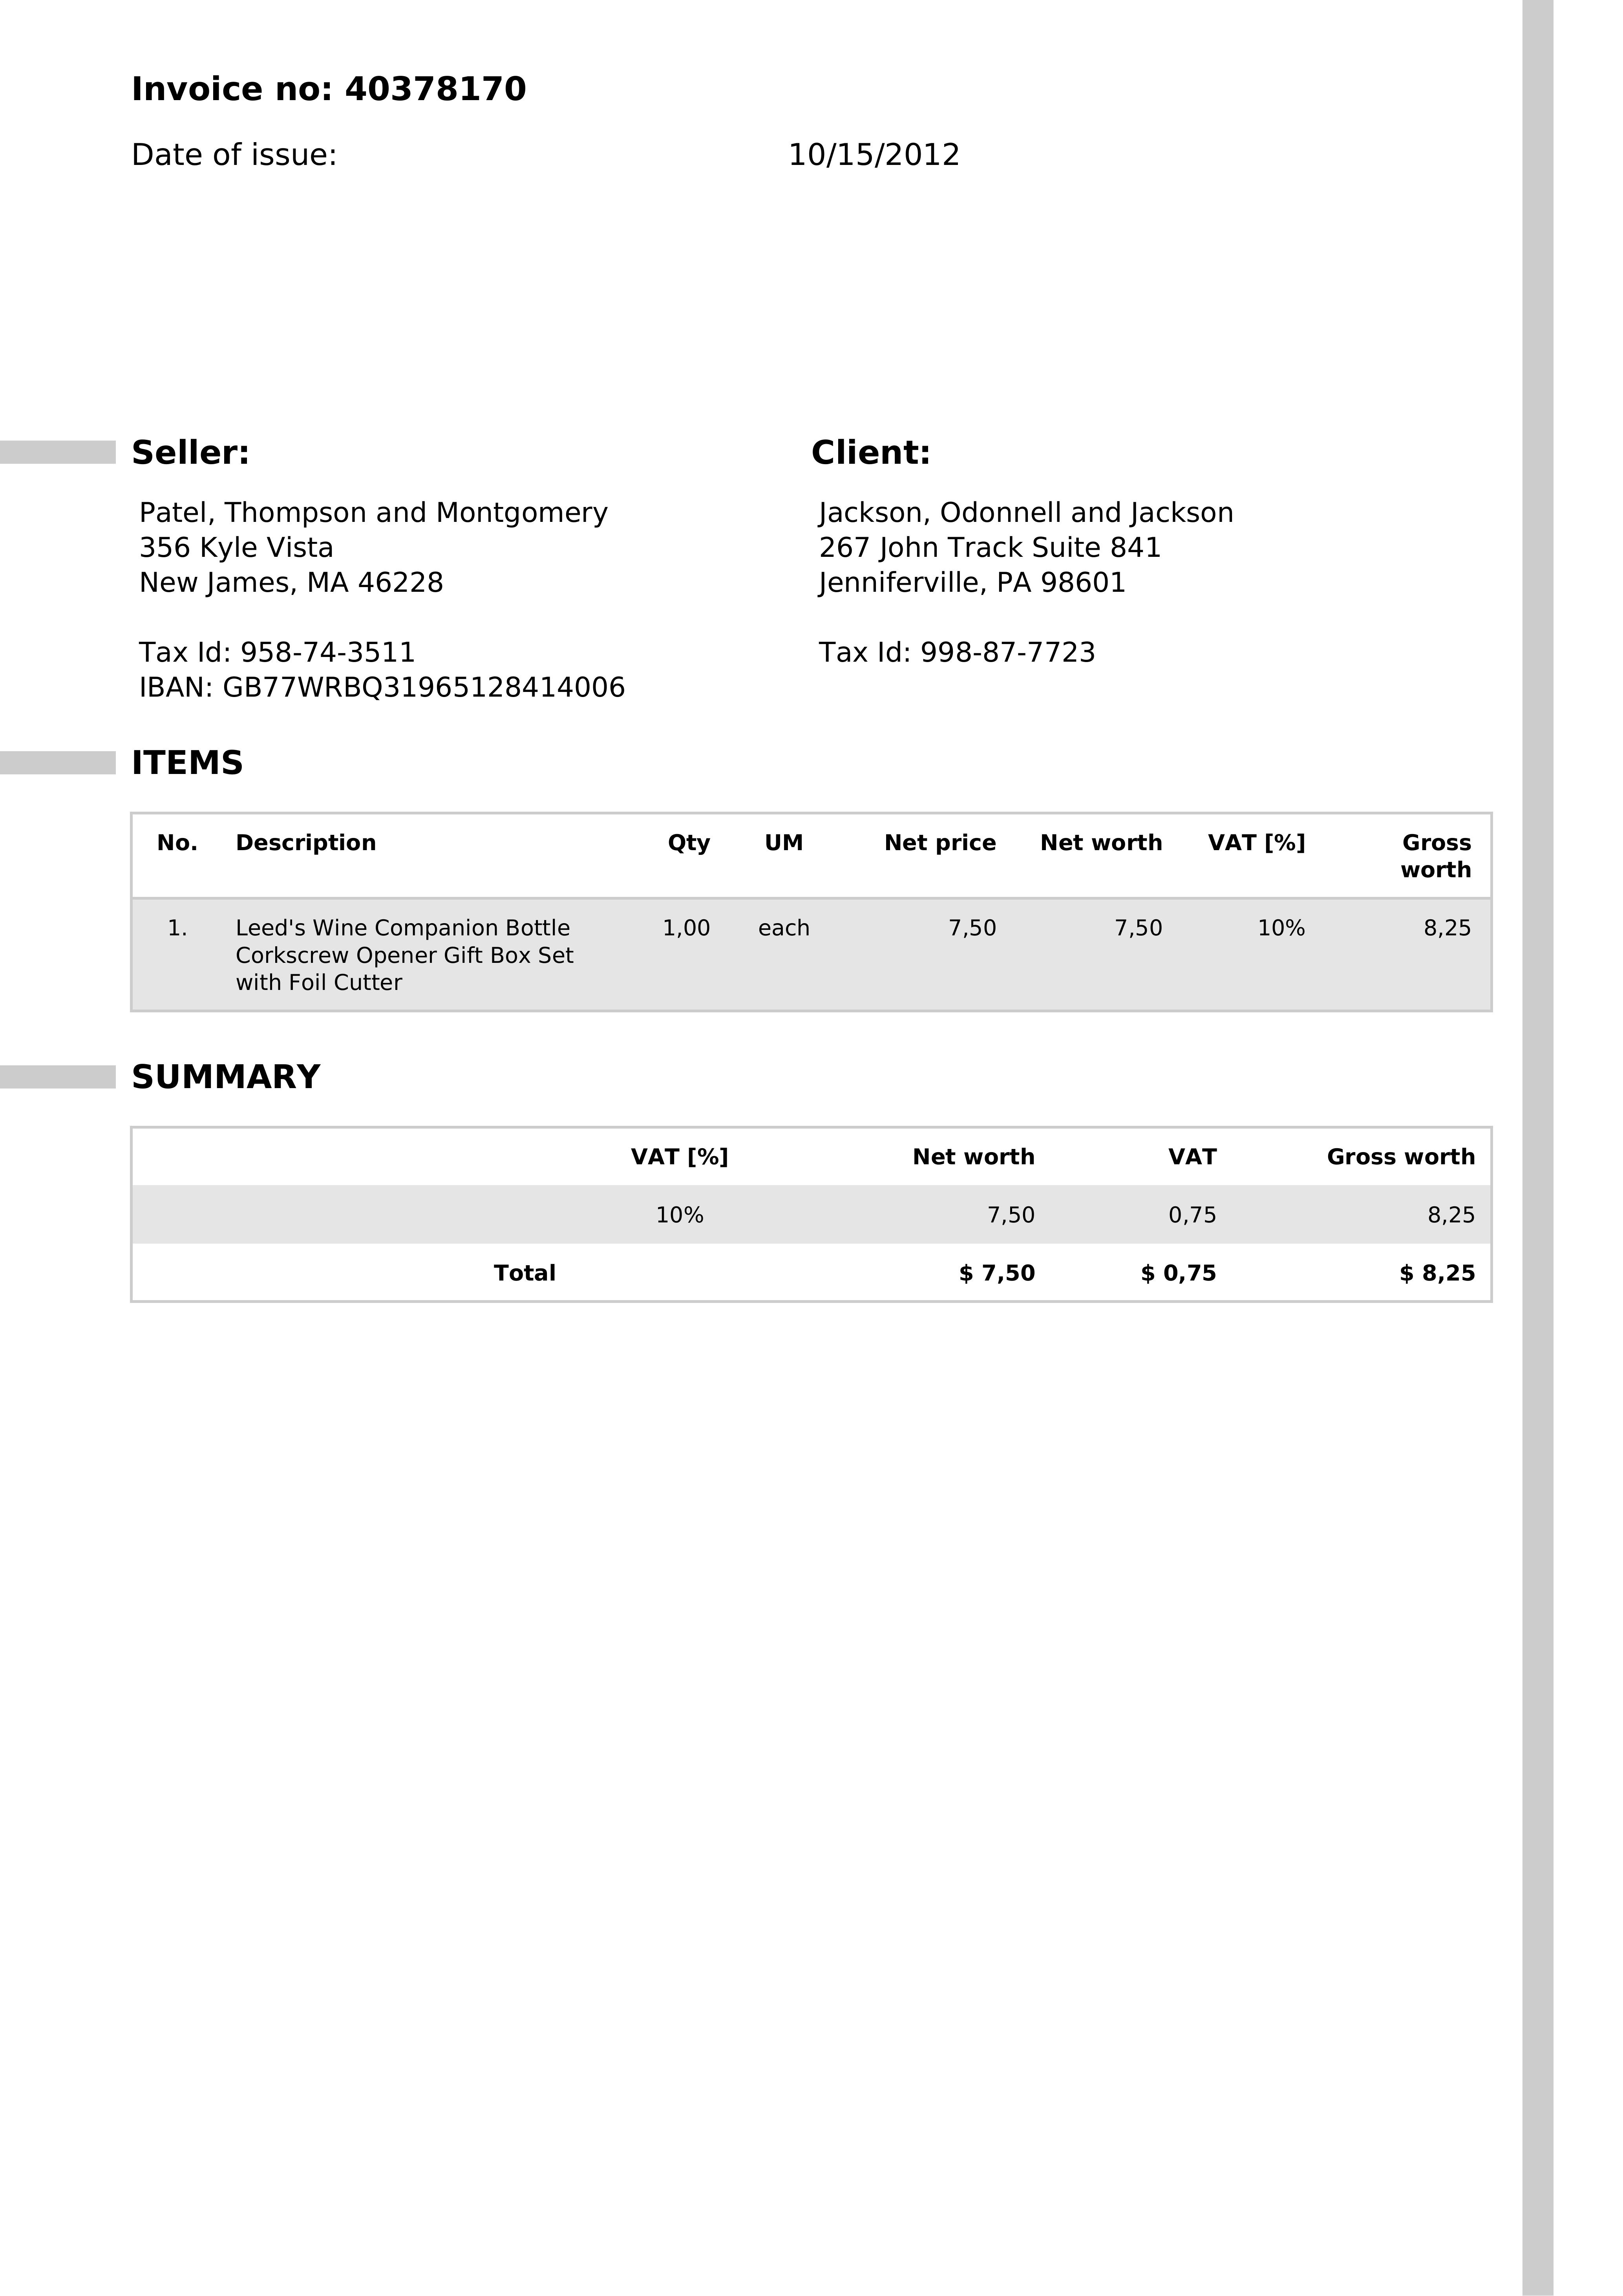column: (211, 815, 601, 1014), (887, 1121, 1075, 1302), (1310, 1131, 1491, 1300), (862, 817, 1017, 1014), (1035, 815, 1184, 1015), (1196, 815, 1337, 1015), (615, 1126, 755, 1298), (1374, 815, 1490, 1008), (1119, 1126, 1238, 1302), (632, 810, 727, 1010), (745, 812, 836, 1014), (464, 1135, 574, 1300)
